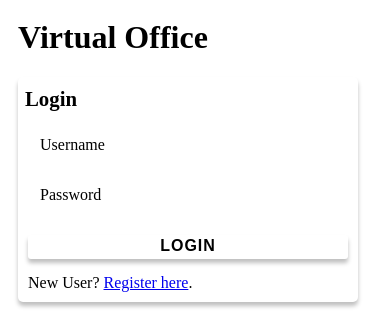
LoginPage › should apply text field validations on blur and focus
Check: the text "Please enter an appropriate email address" is not shown
Type "user" into the field labelled "Username" at (197, 150), box [28,130,366,170]
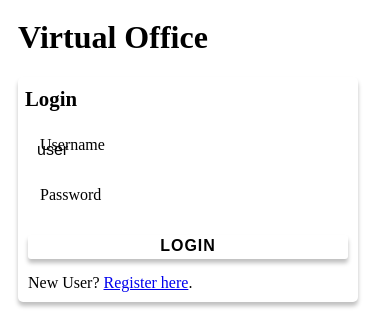
Leave the field labelled "Username", box [28,130,366,170]
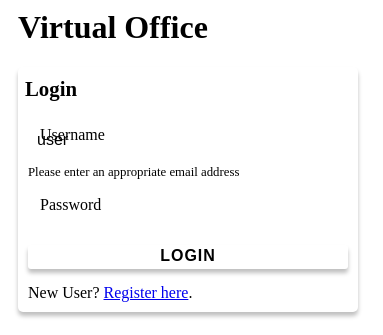
Check: the text "Please enter an appropriate email address" is shown, box [28,165,239,179]
Replace the text in the field labelled "Username" with "user@site.com" at (197, 140), box [28,120,366,160]
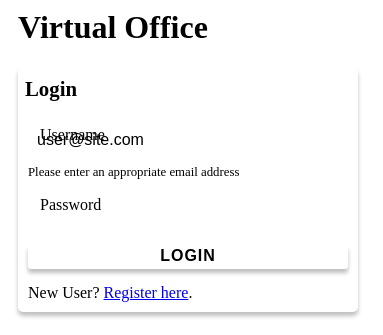
Leave the field labelled "Username", box [28,120,366,160]
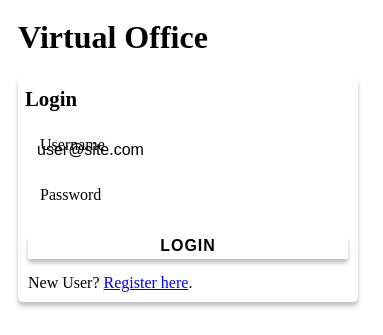
Check: the text "Please enter an appropriate email address" is gone
